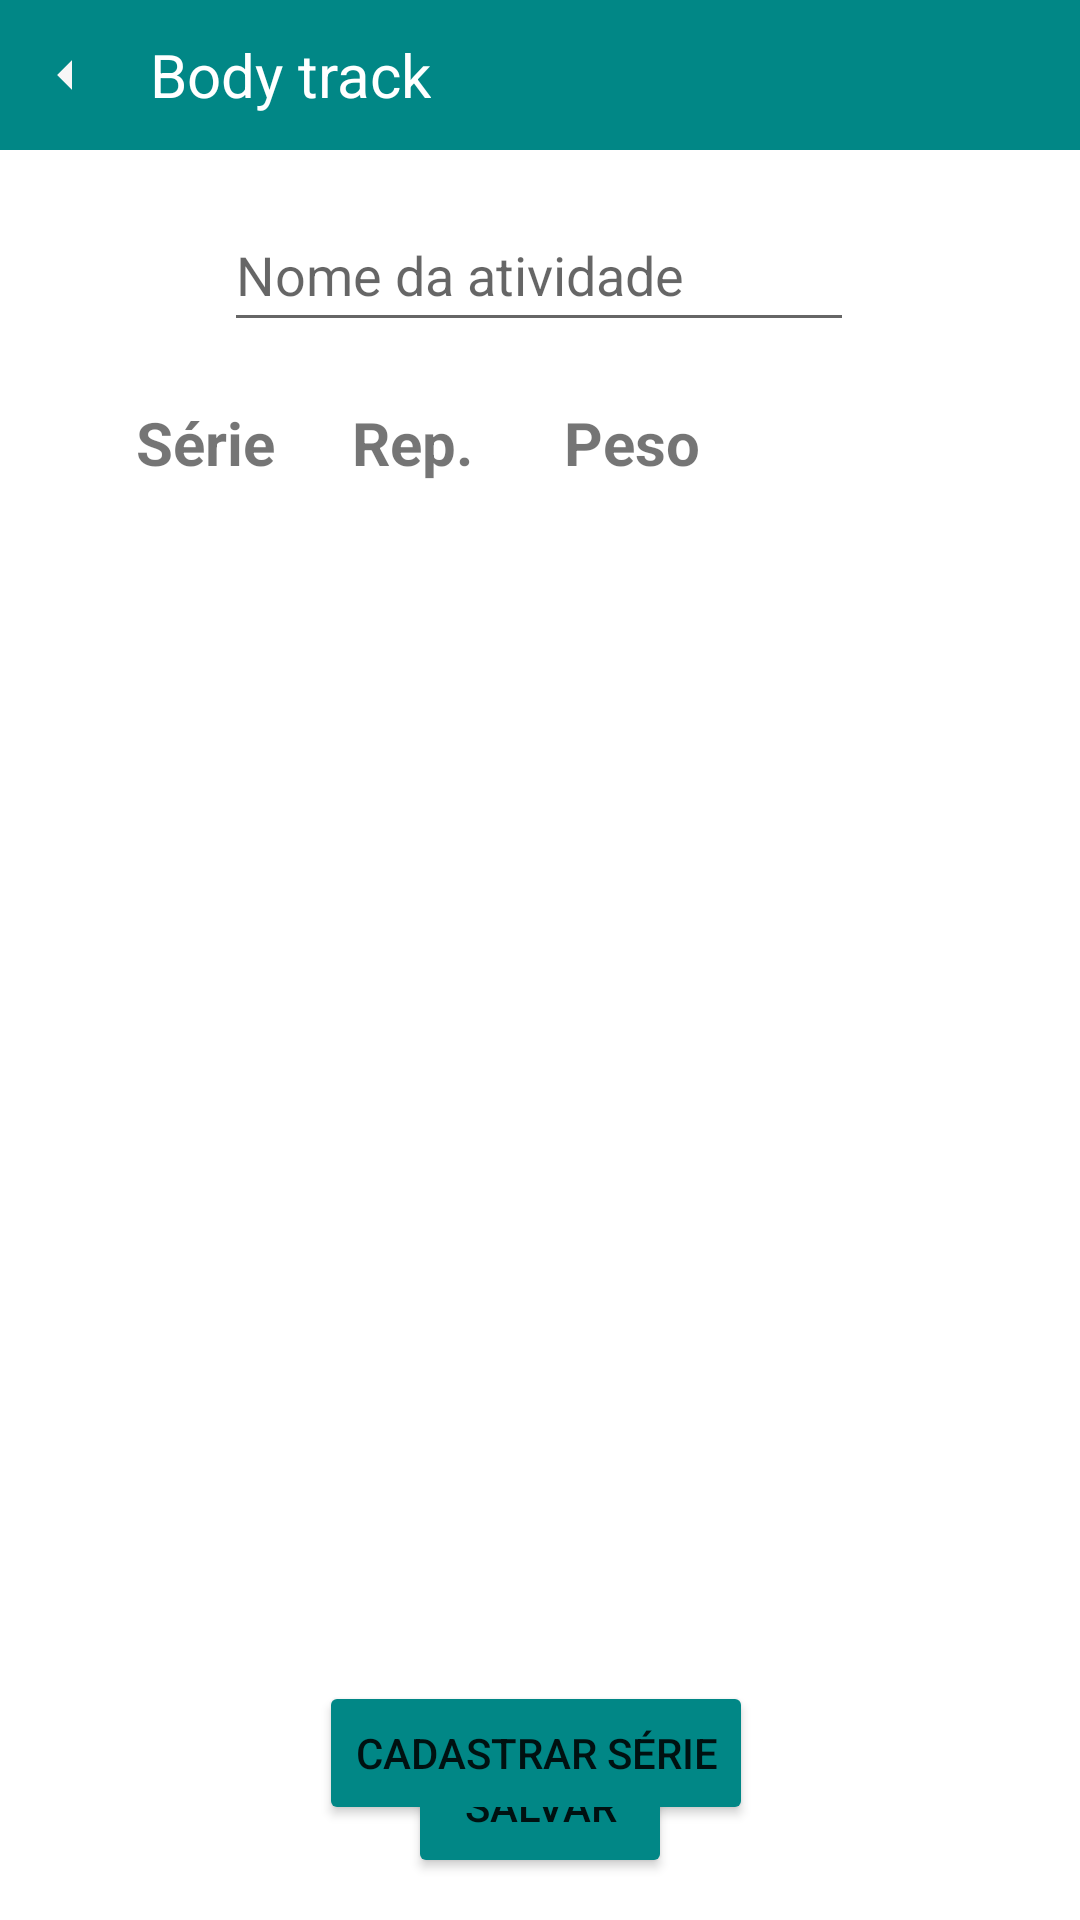

Icons on this 1080w x 1920h Android screen, each with the point to tap as [x,y]:
arrow left: [64,75]
